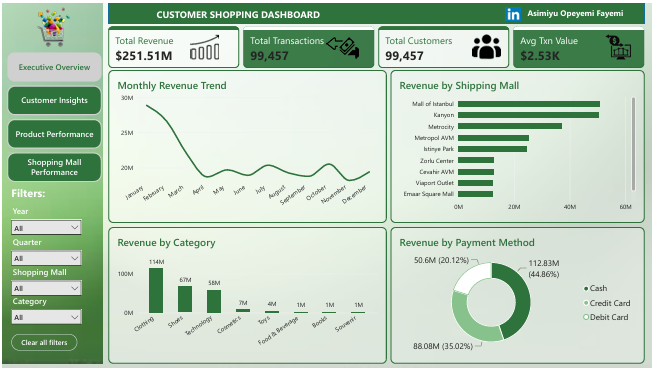

Layout of this report page (visuals, bound fields, positions):
{"tool":"powerbi","page":{"name":"Executive Overview","canvas":[1280,720],"ordinal":0},"visuals":[{"type":"cardVisual","fields":{"Data":["Sum(customer_shopping_data.Total Sales)","customer_shopping_data.Total Transactions","customer_shopping_data.Total Customers","customer_shopping_data.Average Transaction Value"]},"box":[209.2,46.5,1056.5,82.2],"z":0,"group":"g1"},{"type":"lineChart","title":"Monthly Revenue Trend","fields":{"Category":["customer_shopping_data.invoice_date.Variation.Date Hierarchy.Month"],"Y":["Sum(customer_shopping_data.Total Sales)"]},"box":[209.2,132.3,548.8,302.1],"z":0},{"type":"shape","box":[209.2,0,1056.5,41.1],"z":1000,"group":"g2"},{"type":"columnChart","title":"Revenue by Category","fields":{"Category":["customer_shopping_data.category"],"Y":["Sum(customer_shopping_data.Total Sales)"]},"box":[209.2,441.6,548.8,269.9],"z":1000},{"type":"textbox","box":[303.9,8.9,359.3,32.2],"z":2000,"group":"g2"},{"type":"clusteredBarChart","title":"Revenue by Shipping Mall","fields":{"Category":["customer_shopping_data.shopping_mall"],"Y":["Sum(customer_shopping_data.Total Sales)"]},"box":[765.1,132.3,500.6,302.1],"z":2000},{"type":"donutChart","title":"Revenue by Payment Method","fields":{"Category":["customer_shopping_data.payment_method"],"Y":["Sum(customer_shopping_data.Total Sales)"]},"box":[765.1,441.6,500.6,269.9],"z":3000},{"type":"group","id":"g1","title":"Group 2","box":[209.2,46.5,1056.5,82.2],"z":4000},{"type":"image","box":[0,0,196.6,711.5],"z":4500,"group":"g3"},{"type":"textbox","box":[1035.1,8.9,200.2,32.2],"z":5000,"group":"g2"},{"type":"pageNavigator","box":[8.9,96.5,187.7,259.2],"z":5000,"group":"g3"},{"type":"image","box":[986.9,8.9,41.1,25],"z":6000,"group":"g2"},{"type":"group","id":"g2","title":"Group 1","box":[209.2,0,1056.5,41.1],"z":7000},{"type":"image","box":[368.3,60.8,64.4,53.6],"z":7000,"group":"g1"},{"type":"image","box":[28.6,8.9,150.2,80.4],"z":8000,"group":"g3"},{"type":"image","box":[1162,55.4,103.7,64.4],"z":8000,"group":"g1"},{"type":"image","box":[640,62.6,64.4,51.8],"z":9000,"group":"g1"},{"type":"slicer","fields":{"Values":["customer_shopping_data.invoice_date.Variation.Date Hierarchy.Year"]},"box":[12.5,400.4,148.4,60.8],"z":9000,"group":"g3"},{"type":"image","box":[922.5,60.8,64.4,51.8],"z":10000,"group":"g1"},{"type":"slicer","fields":{"Values":["customer_shopping_data.invoice_date.Variation.Date Hierarchy.Quarter"]},"box":[12.5,461.2,148.4,71.5],"z":10000,"group":"g3"},{"type":"slicer","fields":{"Values":["customer_shopping_data.shopping_mall"]},"box":[12.5,520.2,148.4,57.2],"z":11000,"group":"g3"},{"type":"slicer","fields":{"Values":["customer_shopping_data.category"]},"box":[12.5,577.4,148.4,57.2],"z":12000,"group":"g3"},{"type":"textbox","box":[17.9,359.3,78.7,37.5],"z":13000,"group":"g3"},{"type":"actionButton","box":[17.9,652.5,130.5,34],"z":14000,"group":"g3"},{"type":"group","id":"g3","title":"Group 3","box":[0,0,196.6,711.5],"z":14001}]}

Visuals, with their boxes in screenshot pixels (x1, y1, x2, y2), scaled from the page's 1280x720 canvas onto the 652x370 screenshot:
cardVisual - Sum(customer_shopping_data.Total Sales) x customer_shopping_data.Total Transactions: region(107, 24, 645, 66)
"Monthly Revenue Trend" lineChart: region(107, 68, 386, 223)
shape: region(107, 0, 645, 21)
"Revenue by Category" columnChart: region(107, 227, 386, 366)
textbox: region(155, 5, 338, 21)
"Revenue by Shipping Mall" clusteredBarChart: region(390, 68, 645, 223)
"Revenue by Payment Method" donutChart: region(390, 227, 645, 366)
"Group 2" group: region(107, 24, 645, 66)
image: region(0, 0, 100, 366)
textbox: region(527, 5, 629, 21)
pageNavigator: region(5, 50, 100, 183)
image: region(503, 5, 524, 17)
"Group 1" group: region(107, 0, 645, 21)
image: region(188, 31, 220, 59)
image: region(15, 5, 91, 46)
image: region(592, 28, 645, 62)
image: region(326, 32, 359, 59)
slicer - customer_shopping_data.invoice_date.Variation.Date Hierarchy.Year: region(6, 206, 82, 237)
image: region(470, 31, 503, 58)
slicer - customer_shopping_data.invoice_date.Variation.Date Hierarchy.Quarter: region(6, 237, 82, 274)
slicer - customer_shopping_data.shopping_mall: region(6, 267, 82, 297)
slicer - customer_shopping_data.category: region(6, 297, 82, 326)
textbox: region(9, 185, 49, 204)
actionButton: region(9, 335, 76, 353)
"Group 3" group: region(0, 0, 100, 366)
